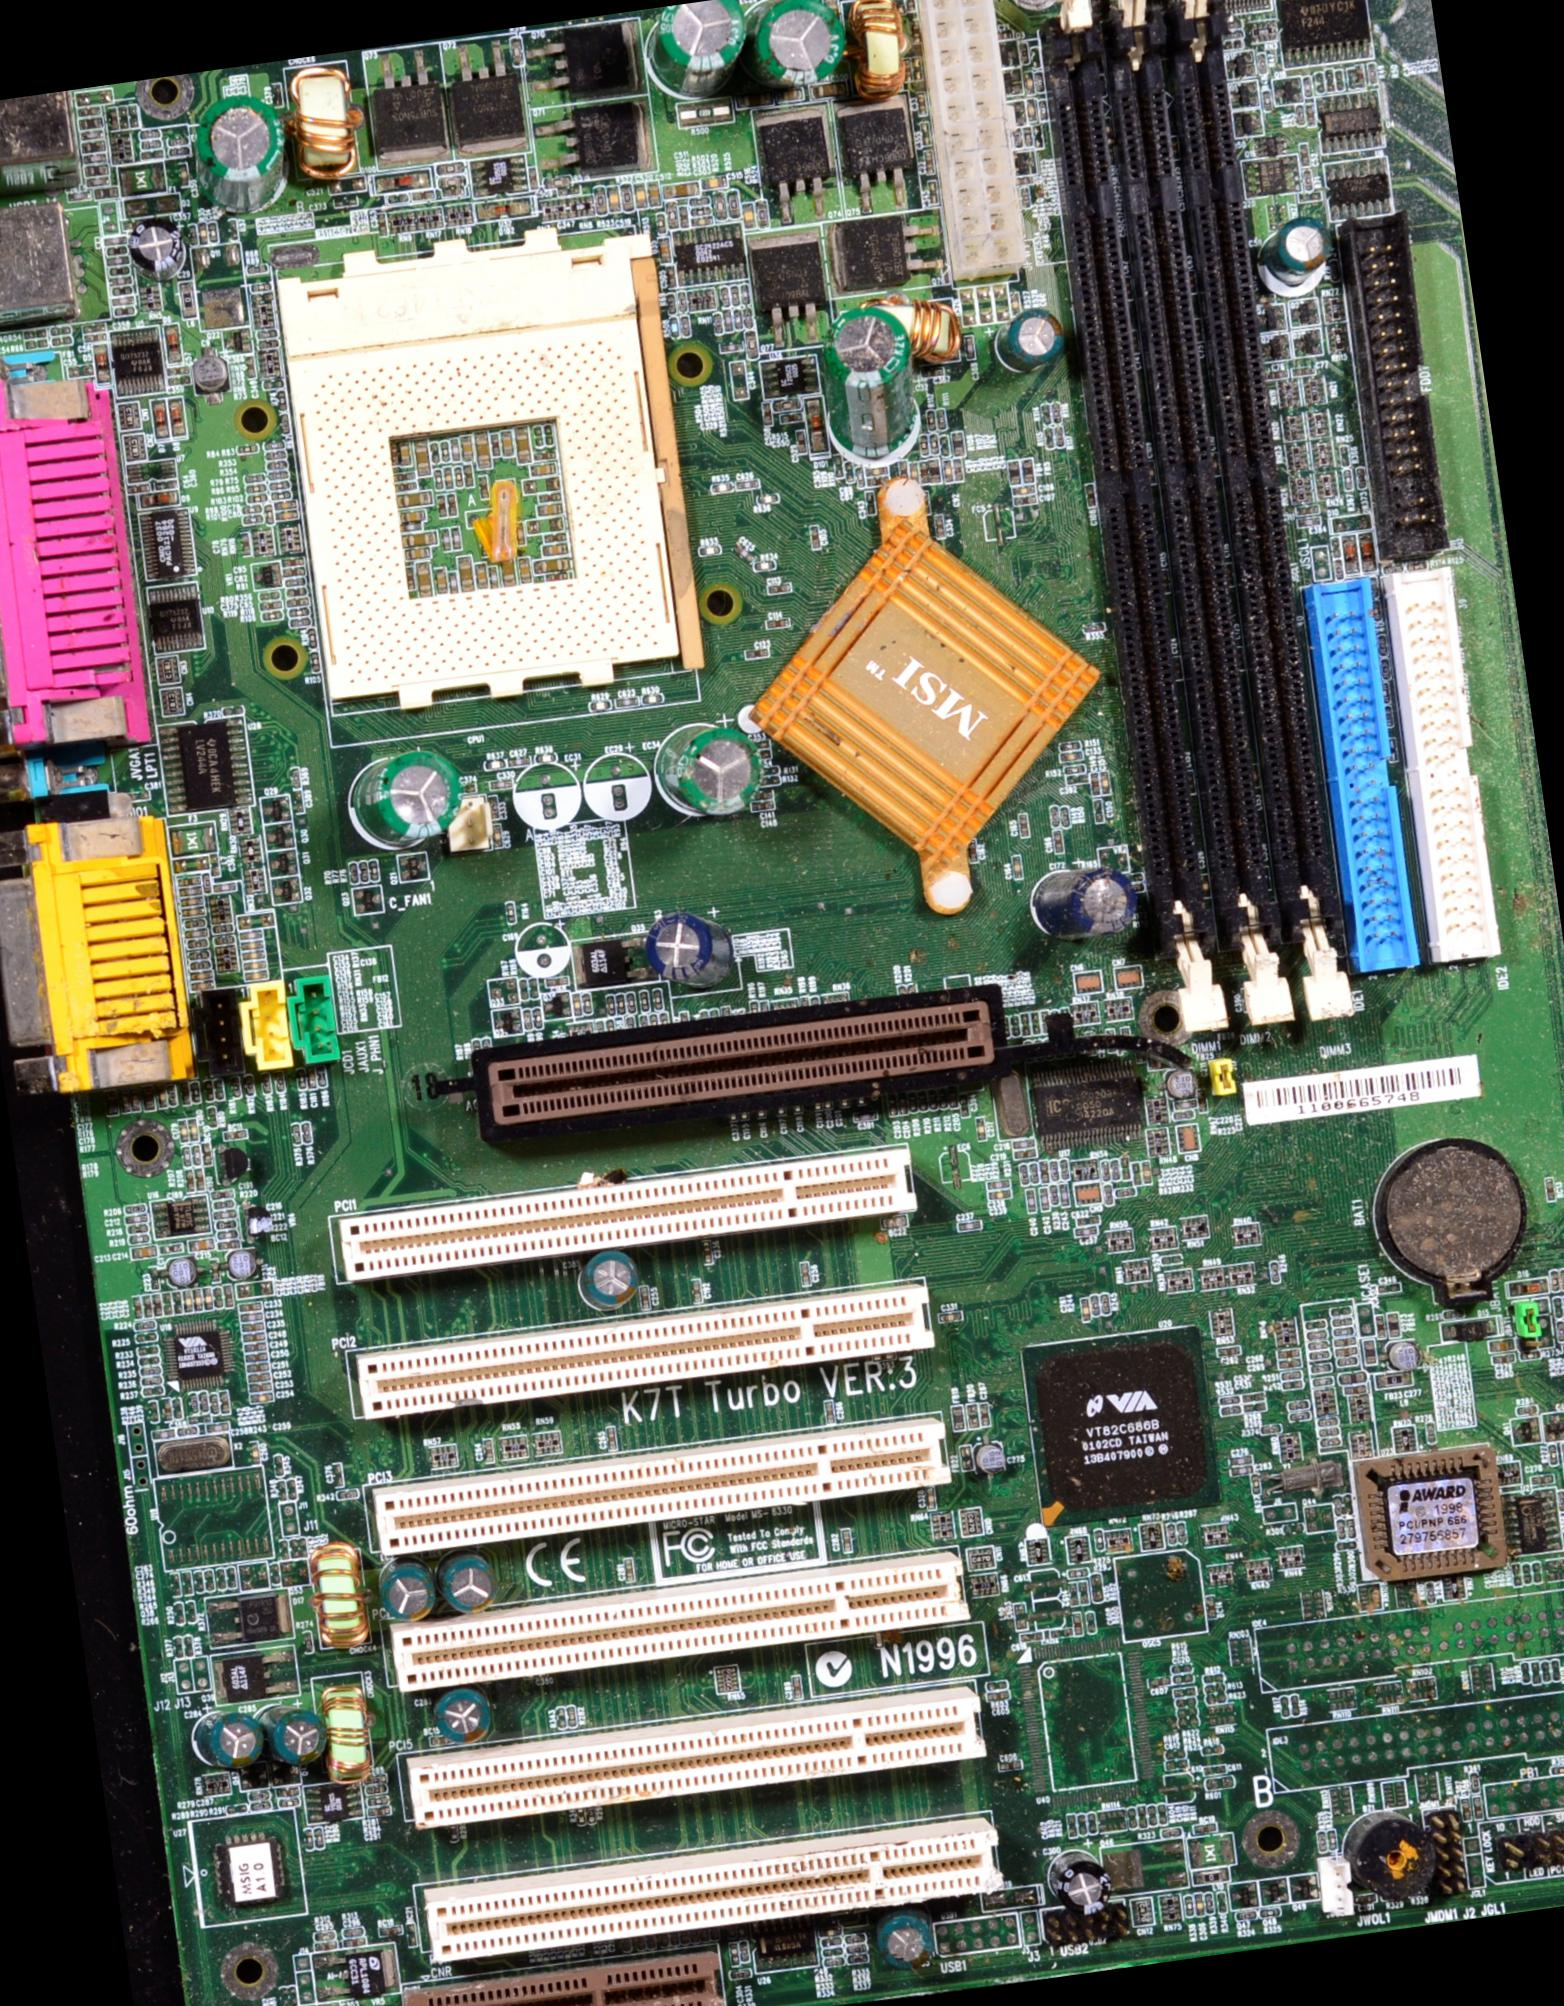Capacitor Jumper: (1175, 1123, 1199, 1153), (1074, 1180, 1102, 1205), (130, 1244, 158, 1260), (955, 1216, 981, 1233), (1488, 1337, 1514, 1353), (332, 194, 358, 210), (181, 1568, 194, 1597), (176, 874, 202, 887), (158, 1241, 184, 1254), (187, 1237, 213, 1250), (1139, 1159, 1152, 1185), (238, 1299, 264, 1312), (238, 1311, 264, 1324), (239, 1321, 265, 1334), (1074, 1213, 1100, 1226), (177, 161, 190, 187), (247, 1381, 273, 1394), (1491, 1351, 1517, 1364), (937, 1309, 960, 1324), (127, 788, 150, 803), (241, 948, 265, 961), (208, 1187, 233, 1200), (1011, 1137, 1035, 1150), (242, 1330, 267, 1343), (1073, 1224, 1097, 1237), (636, 1285, 649, 1309), (690, 1278, 703, 1303), (246, 1361, 270, 1374), (246, 1371, 270, 1384), (1216, 1343, 1240, 1356), (168, 1571, 181, 1596), (1164, 1757, 1188, 1770), (1203, 1763, 1227, 1776), (23, 327, 47, 340), (239, 938, 262, 951), (186, 1117, 197, 1143), (986, 1179, 1012, 1190), (192, 1288, 205, 1311), (700, 1239, 711, 1265), (220, 1389, 231, 1415), (150, 1428, 176, 1439), (1378, 1280, 1401, 1293), (483, 1438, 495, 1464), (605, 1425, 617, 1451), (1276, 1358, 1302, 1369), (978, 1402, 991, 1425), (1344, 1382, 1367, 1395), (986, 1688, 1009, 1702), (1173, 1685, 1196, 1698), (368, 1806, 391, 1819), (1066, 1812, 1077, 1838), (314, 1939, 337, 1952), (244, 355, 257, 378), (213, 881, 238, 892), (177, 886, 202, 897), (179, 905, 203, 917), (189, 969, 213, 980), (306, 1065, 317, 1089), (975, 1115, 986, 1140), (202, 1285, 213, 1309), (182, 1288, 194, 1312), (159, 1397, 171, 1421), (824, 1400, 835, 1425), (1242, 1402, 1266, 1413), (1146, 1675, 1170, 1687), (1530, 1661, 1541, 1685), (342, 1936, 366, 1947), (1460, 1796, 1471, 1820), (23, 339, 47, 350), (125, 484, 150, 495), (161, 1291, 174, 1312), (246, 1350, 267, 1363), (251, 1392, 272, 1405), (187, 1412, 208, 1425), (819, 1925, 840, 1938), (282, 555, 303, 568), (208, 853, 220, 876), (238, 930, 260, 941), (190, 980, 213, 992), (119, 1089, 130, 1112), (177, 1119, 189, 1141), (213, 1208, 236, 1220), (1173, 1099, 1196, 1110), (1120, 1154, 1131, 1177), (132, 1294, 143, 1317), (151, 1293, 163, 1316), (221, 1285, 233, 1307), (1058, 1182, 1069, 1205), (1038, 1187, 1050, 1210), (205, 1420, 228, 1431), (1375, 1314, 1387, 1337), (1333, 1337, 1356, 1348), (1276, 1347, 1299, 1358), (1242, 1391, 1265, 1402), (1530, 1474, 1553, 1485), (1510, 1563, 1522, 1586), (275, 1786, 298, 1798), (195, 221, 207, 244), (376, 212, 387, 234), (247, 280, 270, 291), (166, 365, 189, 376), (273, 500, 296, 511), (239, 532, 251, 555), (259, 599, 282, 611), (179, 896, 205, 905), (156, 1081, 166, 1107), (799, 1260, 809, 1286), (177, 1083, 189, 1104), (1014, 1148, 1035, 1159), (1038, 1159, 1050, 1180), (249, 1441, 260, 1462), (1305, 1319, 1326, 1330), (1336, 1347, 1357, 1358), (83, 322, 104, 334), (1196, 1088, 1206, 1112), (173, 1290, 182, 1314), (988, 1189, 1012, 1198), (1025, 1189, 1035, 1213), (335, 1462, 345, 1487), (361, 1773, 386, 1783), (729, 1941, 739, 1965), (242, 961, 265, 970), (244, 970, 267, 980), (130, 1088, 140, 1110), (148, 1265, 158, 1288), (142, 1293, 151, 1316), (1131, 1163, 1141, 1185), (242, 1342, 265, 1351), (1471, 1794, 1481, 1817), (168, 374, 190, 384), (155, 479, 177, 488), (283, 567, 306, 576), (1081, 1298, 1089, 1324), (184, 928, 205, 938), (959, 1094, 968, 1115), (210, 1260, 220, 1281), (277, 510, 296, 519), (288, 598, 308, 607), (316, 1999, 342, 2004)
Connector: (400, 1942, 724, 2004), (210, 1829, 290, 1907), (1315, 1853, 1354, 1918)
IC: (1029, 1057, 1147, 1153), (158, 715, 254, 814), (163, 1319, 234, 1391), (309, 1944, 397, 2001), (1497, 1485, 1562, 1558), (138, 508, 195, 581), (109, 324, 164, 399), (145, 583, 203, 653), (752, 1915, 817, 1972), (150, 1194, 212, 1241), (303, 1778, 361, 1824), (469, 153, 527, 197), (125, 458, 176, 485)
Resistor Jumper: (1204, 1775, 1235, 1791), (1336, 1369, 1364, 1386), (1227, 1452, 1253, 1465), (145, 1399, 159, 1421), (176, 1423, 199, 1438), (229, 1075, 242, 1099), (194, 1167, 207, 1192), (215, 1218, 239, 1231), (1113, 1185, 1138, 1198), (365, 1794, 389, 1807), (259, 378, 283, 391), (179, 1146, 194, 1167), (257, 326, 278, 340), (187, 948, 210, 961), (122, 1202, 145, 1215), (125, 1221, 148, 1234), (135, 1343, 158, 1356), (140, 1374, 163, 1387), (142, 1384, 164, 1397), (207, 1392, 220, 1415), (1287, 1408, 1310, 1421), (225, 1566, 238, 1589), (269, 1561, 280, 1588), (301, 1628, 312, 1654), (1201, 1742, 1224, 1755), (242, 472, 265, 485), (316, 1928, 335, 1942), (316, 1063, 327, 1088), (132, 1321, 156, 1332), (1305, 1338, 1330, 1350), (192, 1570, 203, 1594), (215, 1566, 226, 1591), (203, 1568, 215, 1592), (173, 1601, 184, 1625), (1229, 1464, 1253, 1475), (1201, 1672, 1225, 1684), (1156, 1801, 1167, 1825), (1182, 1892, 1193, 1916), (186, 936, 207, 949), (272, 1071, 285, 1093), (135, 1330, 156, 1343), (138, 1353, 159, 1366), (1330, 1304, 1351, 1317), (1308, 1348, 1330, 1361), (288, 1539, 301, 1560), (182, 1635, 195, 1656), (249, 1788, 270, 1801), (1204, 1692, 1225, 1705), (1175, 1705, 1196, 1718), (1548, 1659, 1561, 1680), (1538, 1661, 1551, 1682), (729, 1967, 750, 1980), (265, 459, 286, 472), (358, 860, 369, 883), (190, 1078, 202, 1101), (182, 1169, 194, 1192), (1172, 1109, 1195, 1120), (1048, 1158, 1059, 1180), (1019, 1164, 1030, 1187), (1100, 1158, 1112, 1180), (212, 1286, 223, 1309), (1159, 1254, 1182, 1265), (197, 1391, 208, 1413), (189, 1392, 200, 1415), (171, 1395, 182, 1418), (1268, 1260, 1279, 1283), (1548, 1268, 1559, 1291), (273, 1452, 285, 1475), (1310, 1363, 1333, 1374), (1217, 1394, 1240, 1405), (278, 1539, 290, 1561), (1260, 1423, 1282, 1434), (1515, 1404, 1538, 1415), (1424, 1421, 1435, 1444), (1248, 1474, 1260, 1496), (303, 1827, 314, 1850), (1289, 1693, 1300, 1716), (187, 223, 199, 246), (257, 589, 280, 601), (218, 1228, 238, 1241), (1027, 1161, 1037, 1187), (140, 1363, 159, 1376), (1313, 1374, 1333, 1387), (278, 1985, 291, 2004), (182, 917, 203, 928), (207, 1104, 218, 1125), (301, 1122, 312, 1143), (290, 1123, 301, 1145), (190, 1145, 202, 1166), (212, 1198, 233, 1210), (1102, 1184, 1113, 1205), (1099, 1291, 1110, 1312), (1330, 1316, 1351, 1327), (1307, 1329, 1328, 1340), (286, 1478, 298, 1500), (1335, 1356, 1356, 1368), (1279, 1369, 1300, 1381), (298, 1537, 309, 1558), (1320, 1436, 1341, 1448), (186, 1601, 197, 1622), (173, 1636, 184, 1658), (1522, 1561, 1533, 1583), (1170, 1664, 1191, 1675), (226, 1802, 247, 1814), (312, 1825, 324, 1846), (1279, 1697, 1291, 1718), (342, 1926, 363, 1938), (1326, 1829, 1338, 1850), (207, 221, 218, 243), (737, 1939, 749, 1960), (824, 1956, 845, 1967), (246, 264, 267, 275), (257, 339, 278, 350), (280, 414, 291, 435), (236, 443, 257, 454), (241, 513, 262, 524), (262, 609, 283, 620), (286, 607, 308, 619), (125, 1234, 150, 1244), (1286, 1400, 1310, 1410), (278, 1796, 303, 1806), (200, 874, 212, 894), (166, 1083, 176, 1106), (260, 1073, 272, 1093), (296, 1067, 306, 1089), (244, 1076, 256, 1096), (1048, 1182, 1058, 1205), (1444, 1307, 1463, 1319), (1548, 1443, 1557, 1465), (1531, 1561, 1541, 1584), (986, 1679, 1006, 1690), (1172, 1672, 1191, 1684), (1126, 1806, 1136, 1829), (229, 218, 239, 241), (845, 1942, 864, 1954), (848, 1952, 867, 1964), (1235, 1910, 1255, 1921), (1260, 1907, 1279, 1918), (50, 334, 70, 345), (246, 482, 265, 493), (270, 490, 290, 501), (285, 576, 304, 588), (348, 861, 358, 883), (368, 860, 378, 881), (189, 959, 210, 969), (1059, 1158, 1069, 1179), (1553, 1298, 1562, 1319), (1553, 1321, 1562, 1342), (1219, 1405, 1240, 1415), (365, 1783, 386, 1793), (247, 1801, 269, 1811), (1203, 1682, 1224, 1692), (1175, 1697, 1196, 1706), (1520, 1661, 1530, 1682), (1164, 1749, 1185, 1759), (1086, 1811, 1095, 1832), (1468, 1772, 1478, 1793), (1317, 1830, 1326, 1851), (1204, 1892, 1214, 1913), (1216, 1890, 1225, 1912), (50, 324, 72, 334), (264, 441, 285, 451), (246, 493, 267, 503), (239, 505, 260, 515), (1333, 1325, 1351, 1337), (1089, 1294, 1099, 1314), (339, 1488, 358, 1498), (1318, 1425, 1338, 1434), (1178, 1718, 1198, 1728), (1076, 1814, 1086, 1833), (1147, 1804, 1157, 1824), (290, 1985, 299, 2004), (820, 1936, 840, 1946), (845, 1933, 864, 1942), (277, 391, 286, 410), (265, 451, 285, 461), (269, 469, 288, 479), (264, 505, 273, 524), (285, 588, 304, 598), (1160, 1827, 1178, 1837), (824, 1946, 841, 1956), (269, 480, 286, 490), (278, 1480, 286, 1501), (1317, 1418, 1338, 1426), (311, 650, 319, 671), (1548, 1763, 1562, 1775), (1112, 1159, 1120, 1179), (290, 619, 309, 627), (308, 629, 316, 646), (1557, 1439, 1562, 1464), (1561, 1267, 1562, 1290)
Transistor: (519, 67, 677, 197), (361, 42, 449, 168), (519, 18, 640, 109), (443, 33, 527, 158), (205, 1586, 291, 1648), (213, 1645, 298, 1705), (1286, 1871, 1320, 1903), (397, 850, 430, 883), (251, 560, 283, 591), (264, 821, 295, 852), (1510, 1415, 1541, 1446), (1227, 1879, 1258, 1910), (1258, 1876, 1289, 1907), (350, 886, 382, 915), (238, 1762, 270, 1791), (270, 874, 301, 904), (223, 327, 252, 357), (259, 796, 288, 824), (267, 848, 296, 876), (1540, 1410, 1562, 1443), (269, 1762, 301, 1785)
